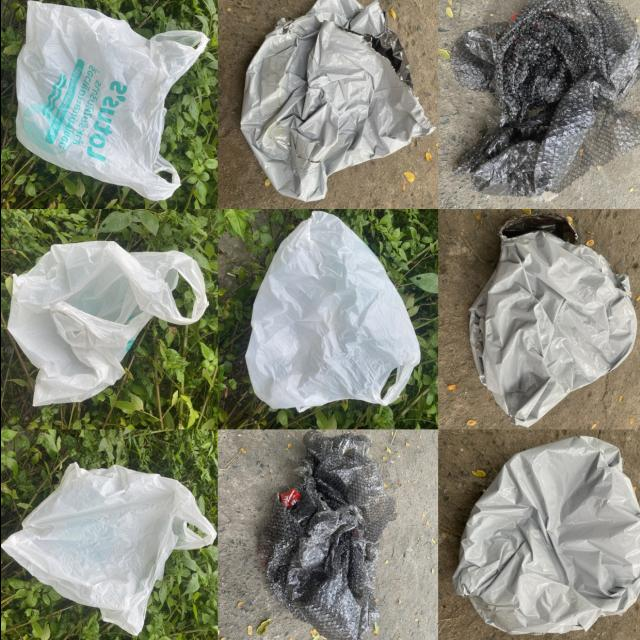plastik: (240, 0, 434, 200), (16, 2, 207, 200), (451, 0, 640, 199), (0, 463, 216, 636), (452, 437, 640, 634), (469, 213, 636, 426), (245, 211, 419, 411), (7, 242, 207, 406), (259, 432, 394, 640)
